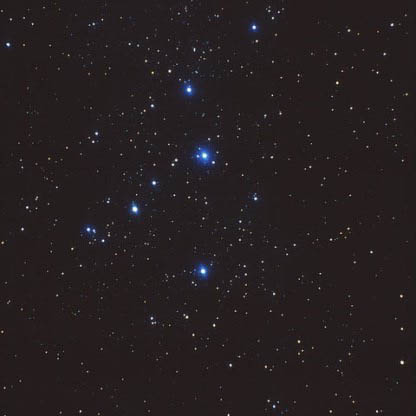Cassiopeia: (127, 171, 163, 224), (185, 135, 221, 169), (239, 11, 265, 42), (174, 71, 201, 99), (195, 258, 216, 292)
